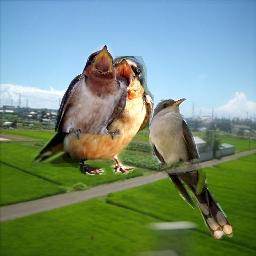Cuckoo: (149, 98, 233, 239)
Swallow: (31, 56, 154, 175), (55, 44, 128, 140)
